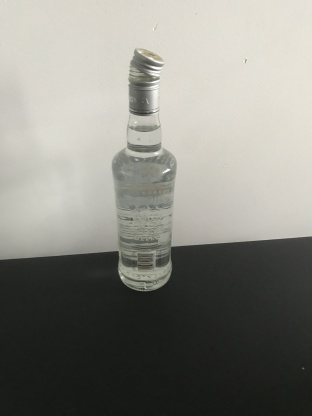nakretka: (126, 45, 165, 116)
